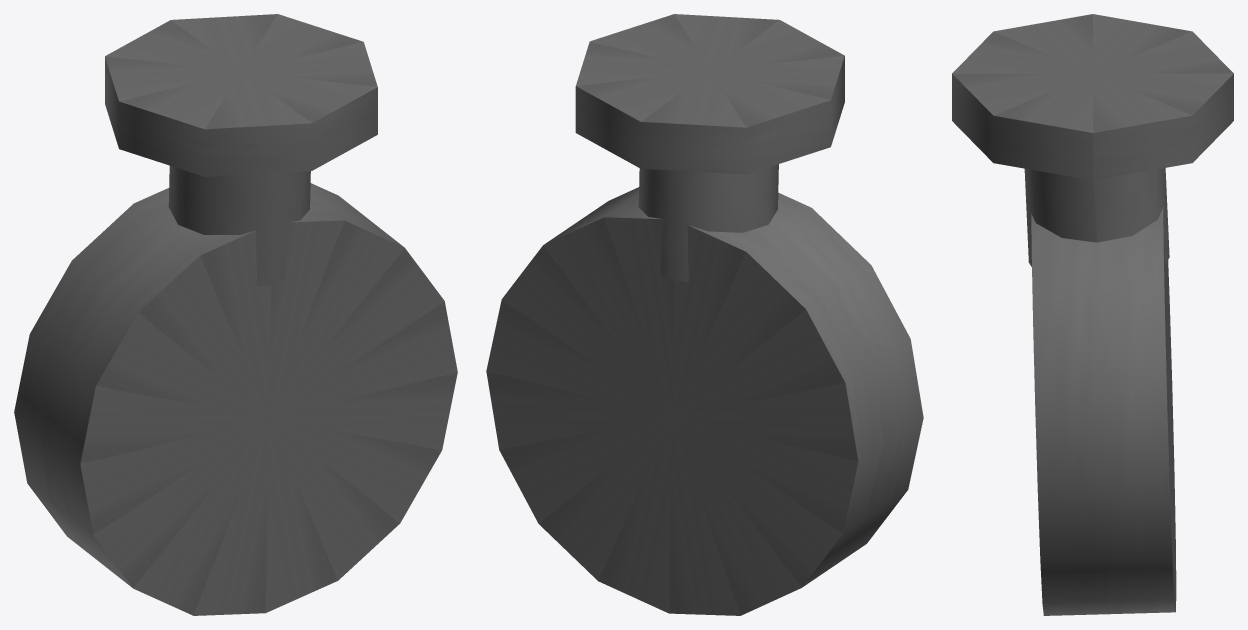
File: mastarmcurve_8x2_c9_up.obj
3 views of the same model, side by side, from view 1: azimuth 30°, elevation 25°; view 2: azimuth 150°, elevation 25°; view 3: azimuth 270°, elevation 25° (orthographic).
Parts seen in each view (by area): view 1: mastarm_8x2_c9_up; view 2: mastarm_8x2_c9_up; view 3: mastarm_8x2_c9_up.
Part boxes in pixels (x1,y1,x2,y2): mastarm_8x2_c9_up: (14, 14, 457, 615); mastarm_8x2_c9_up: (486, 14, 923, 615); mastarm_8x2_c9_up: (952, 14, 1233, 615).
Bounding box in the file's own units: 0.617 × 0.8179 × 0.4.
